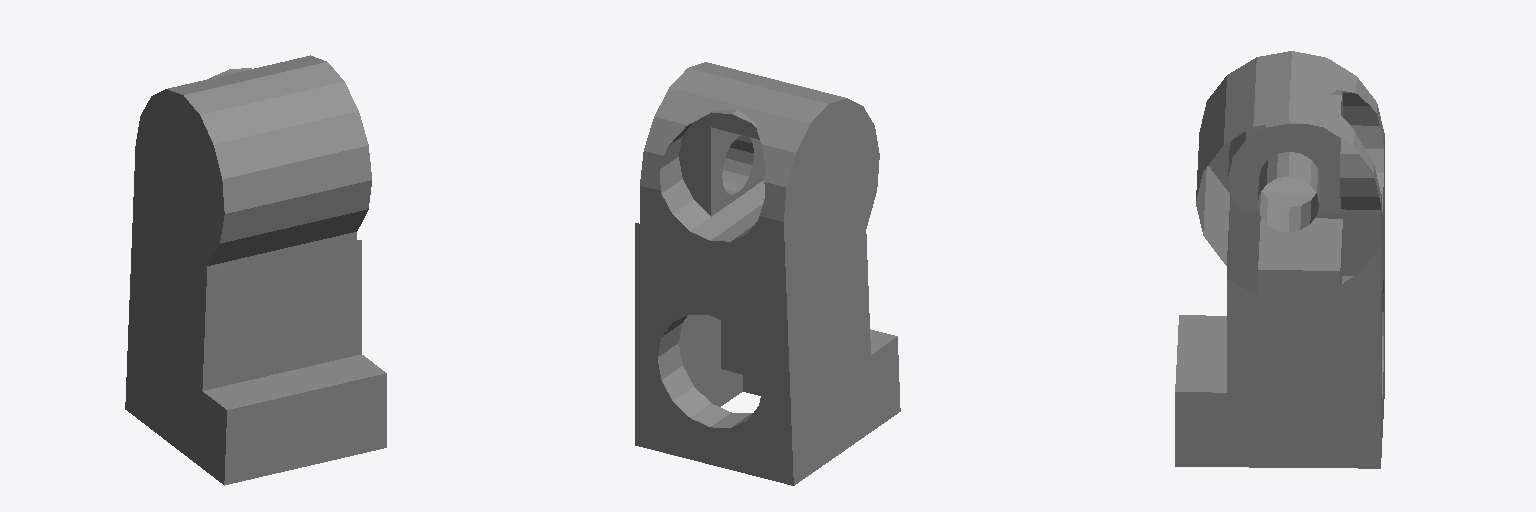
File: piernaDer.obj
3 renders of one model, left to right at view 1: azimuth 30°, elevation 25°; view 2: azimuth 150°, elevation 25°; view 3: azimuth 270°, elevation 25°, orthographic.
Visible parts, largest first — view 1: piernaDerechaBart; view 2: piernaDerechaBart; view 3: piernaDerechaBart.
Boxes of the visible parts, x1=… form: piernaDerechaBart: x1=125, y1=55, x2=386, y2=485; piernaDerechaBart: x1=635, y1=62, x2=900, y2=485; piernaDerechaBart: x1=1175, y1=51, x2=1384, y2=468.
Size of the model in its own units: 1.1 by 2.22 by 1.22.